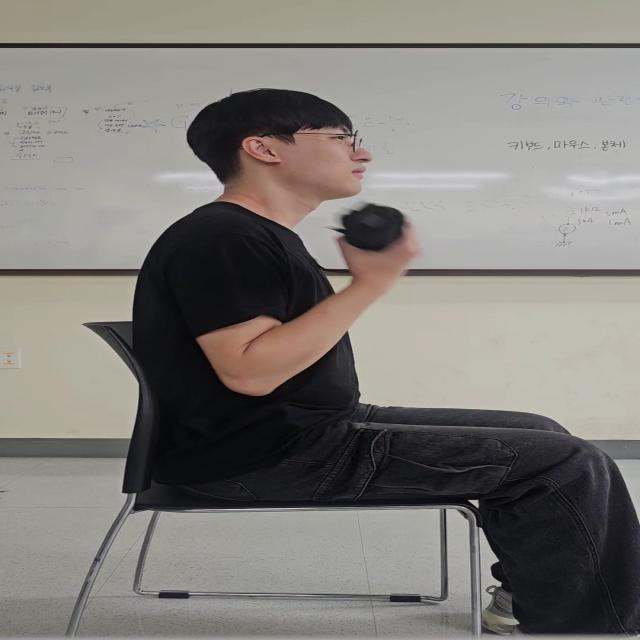curl: (149, 194, 425, 399)
